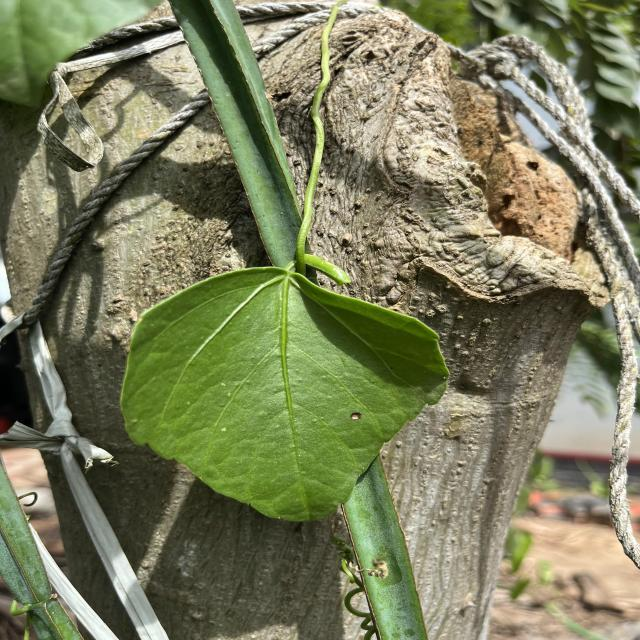Cissus quadrangularis: (114, 261, 456, 531)
